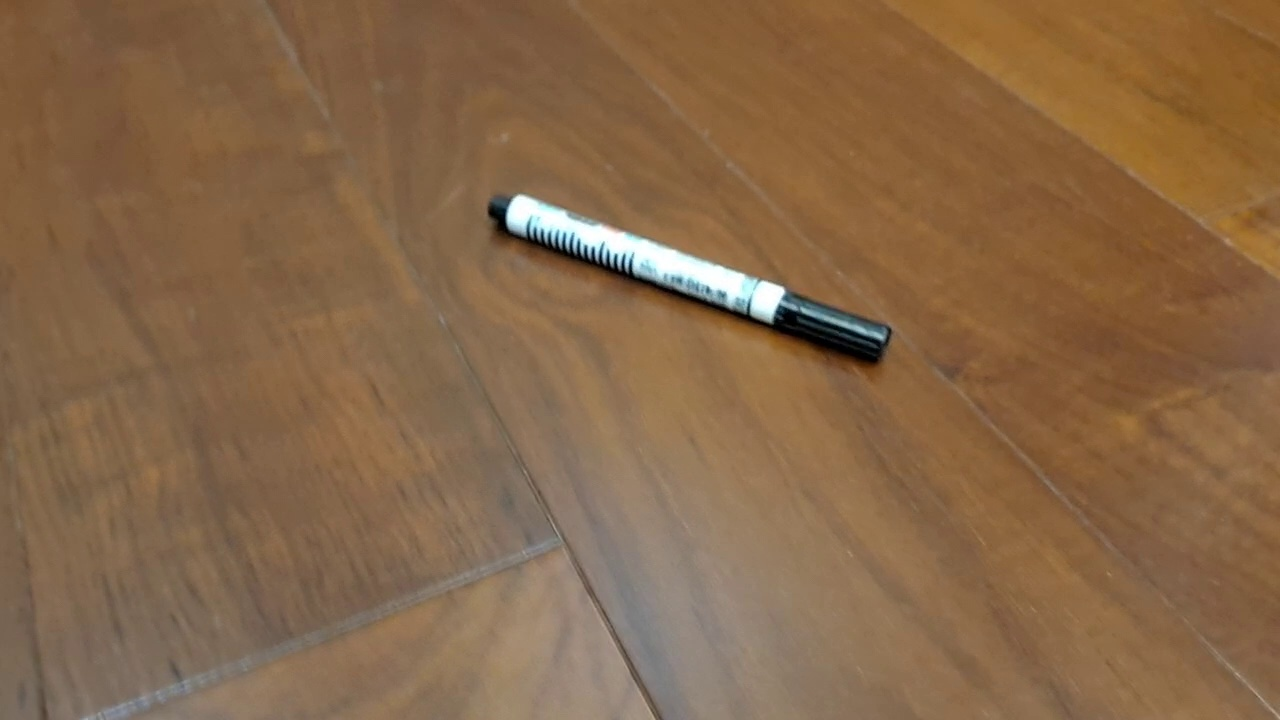pen: (487, 191, 894, 366)
